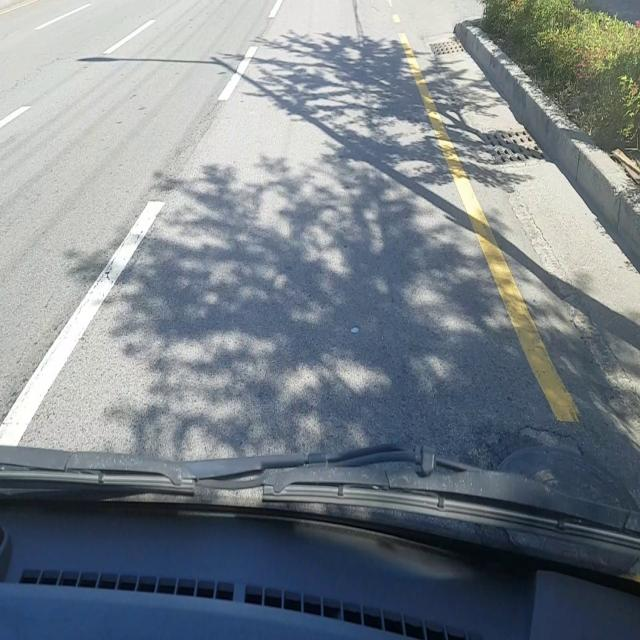Pothole: (489, 424, 640, 532)
